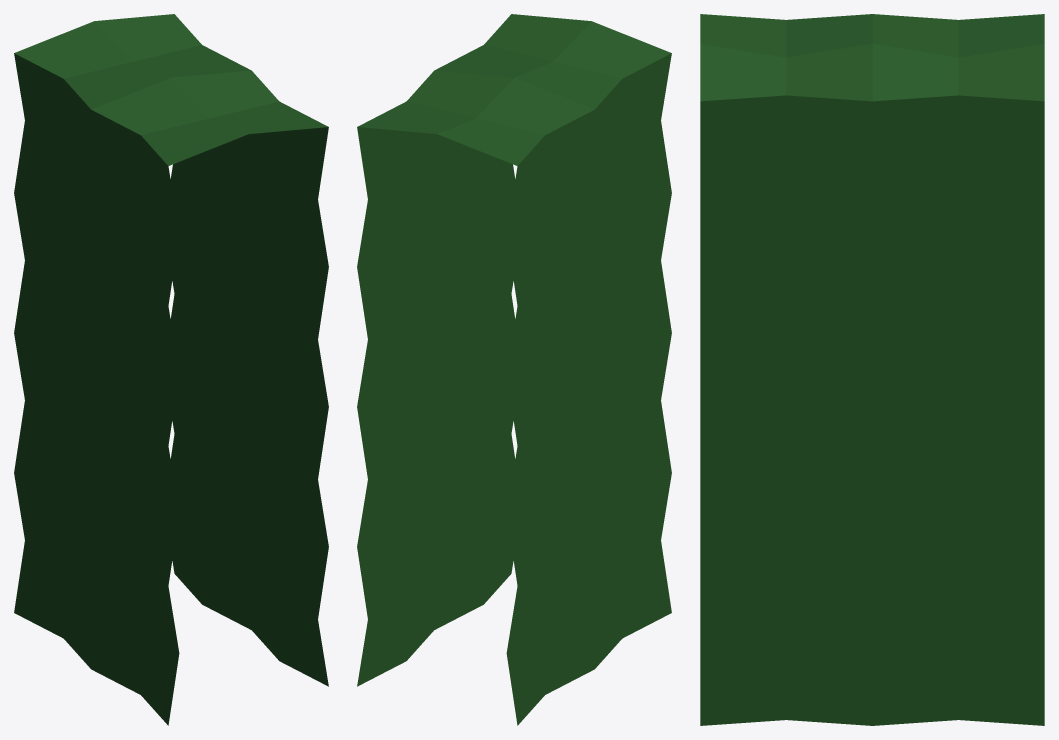
File: bush_short.fbx
3 views of the same model, side by side, from view 1: azimuth 30°, elevation 25°; view 2: azimuth 150°, elevation 25°; view 3: azimuth 270°, elevation 25° (orthographic). The views are drawn at different scales.
Parts seen in each view (by area): view 1: Bush.Short; view 2: Bush.Short; view 3: Bush.Short.
Part boxes in pixels (<box>): Bush.Short: <box>14,14,328,725</box>; Bush.Short: <box>357,14,671,725</box>; Bush.Short: <box>700,14,1044,725</box>.
Size of the model in its own units: 120 by 409 by 200.
